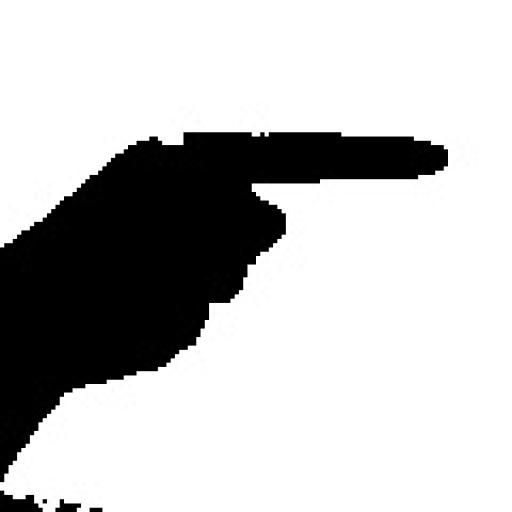index_right: (0, 126, 450, 340)
